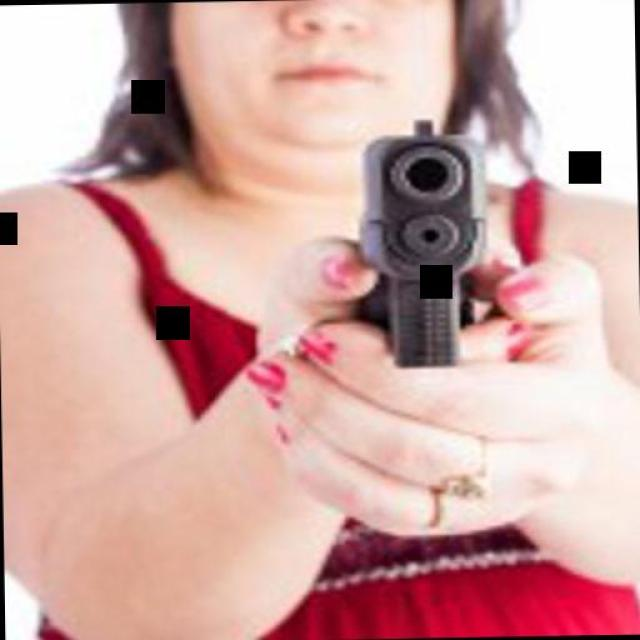gun: (340, 87, 498, 375)
